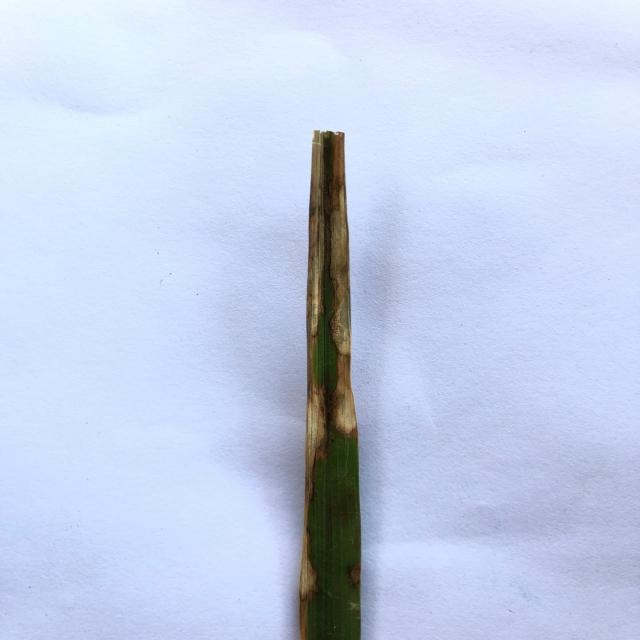leaf blight: (329, 132, 353, 439), (304, 131, 326, 340), (298, 365, 328, 506), (298, 522, 318, 640)
